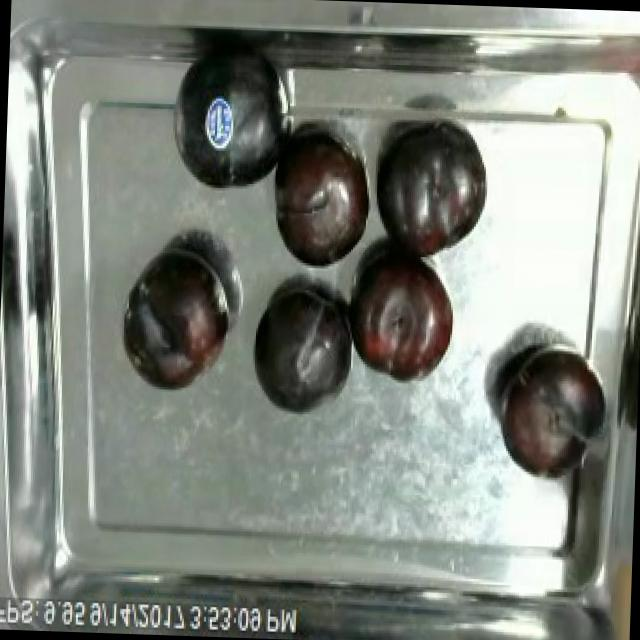Fruit: (166, 42, 292, 205), (488, 336, 616, 486), (370, 119, 493, 269), (260, 125, 380, 278), (122, 243, 235, 399), (342, 244, 461, 392), (247, 282, 356, 420), (582, 535, 632, 640)
